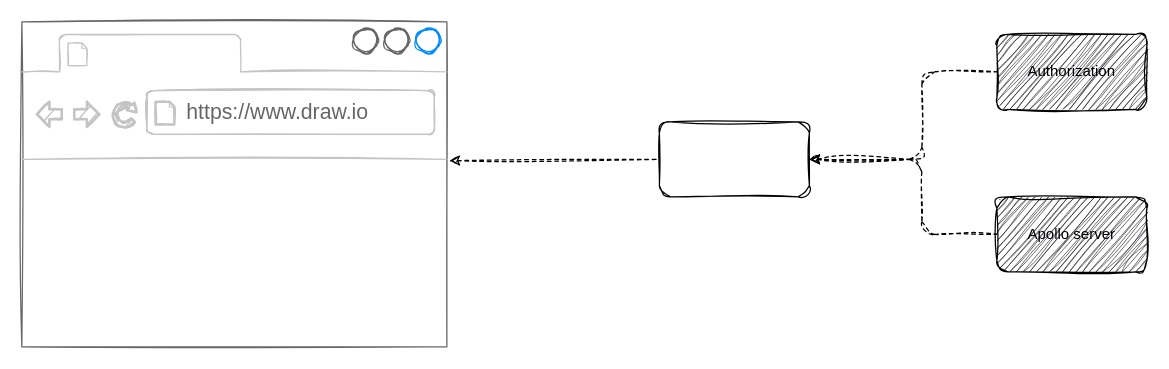
This 1169x369 diagram has some shape labels left out. Here are the shapes that lost their labels. From the top down, the centre of each, then its label:
At pixel 165 52: "Page 1".
At pixel 733 159: "GraphQL API".
